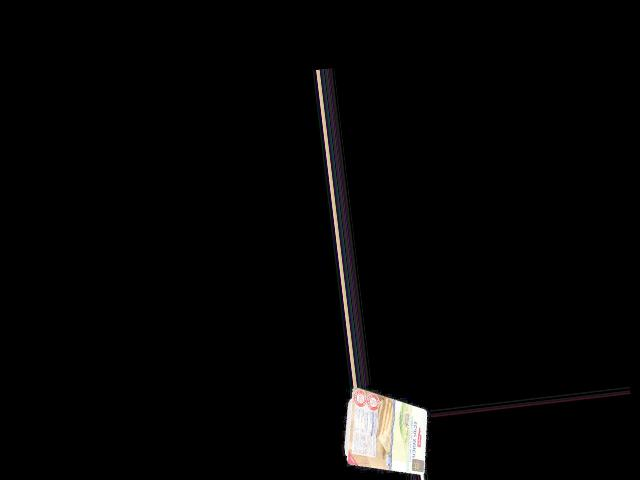cheese: (341, 393, 432, 475)
